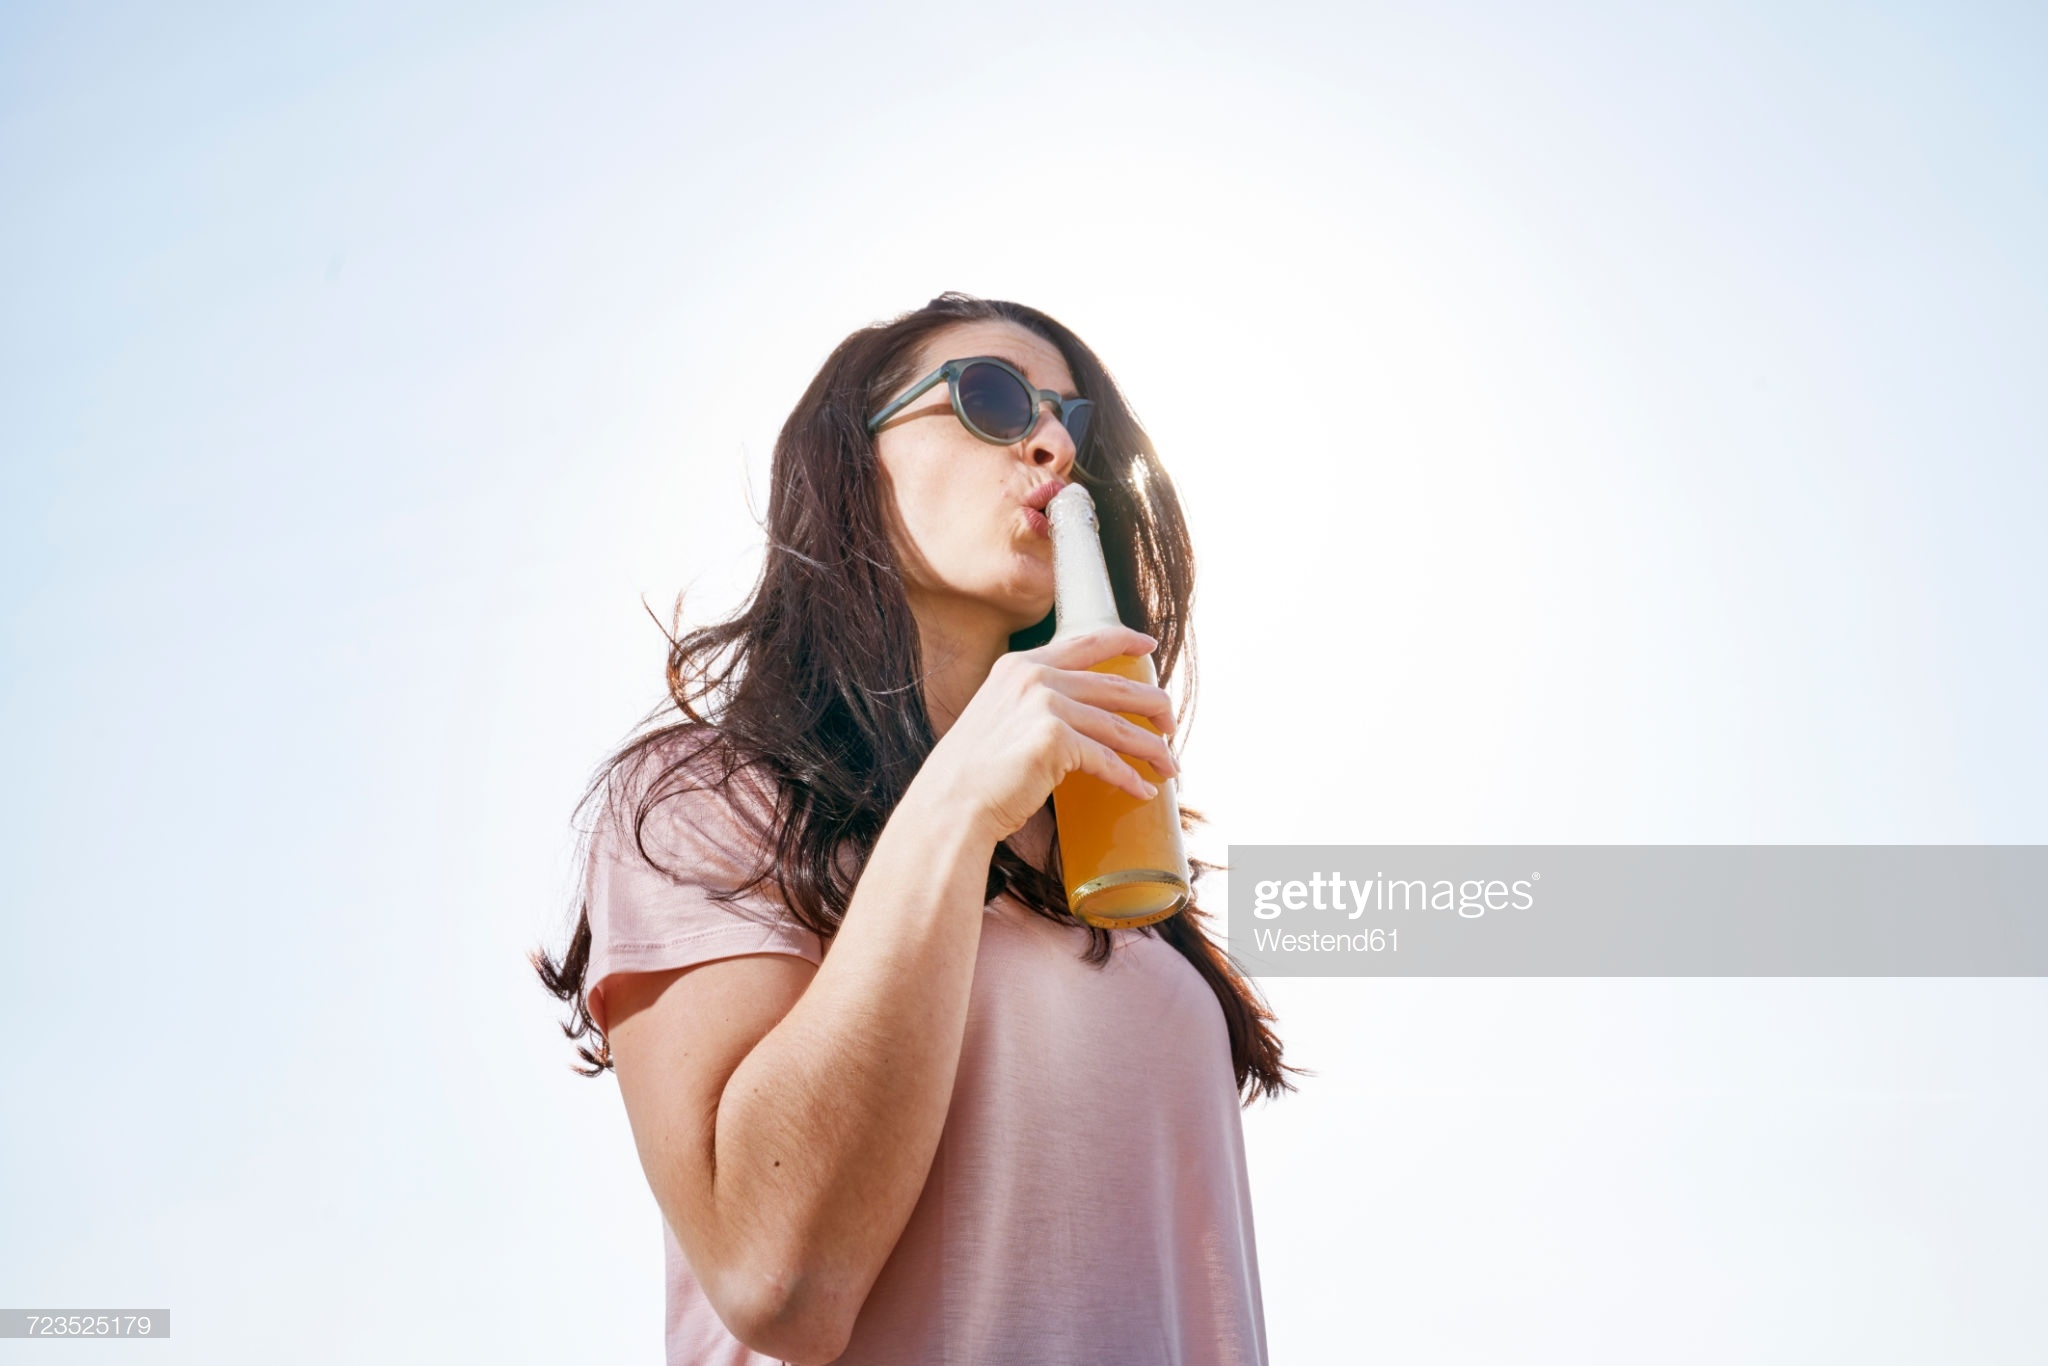beerBottle: (1048, 492, 1176, 913)
